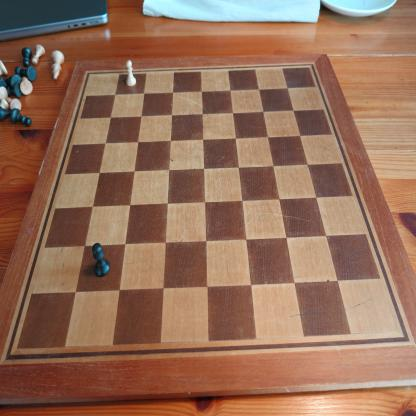black-pawn: (91, 242, 111, 277), (10, 108, 33, 128), (21, 46, 33, 68)
white-bishop: (51, 50, 64, 81)
white-pawn: (31, 44, 46, 66), (125, 60, 137, 87)
